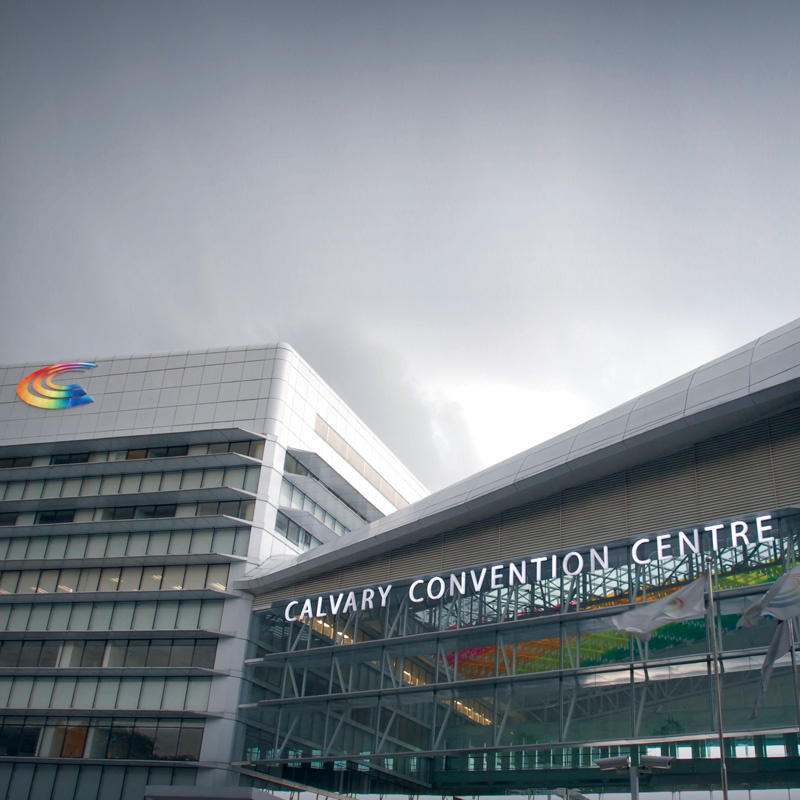Church: (11, 324, 800, 770)
